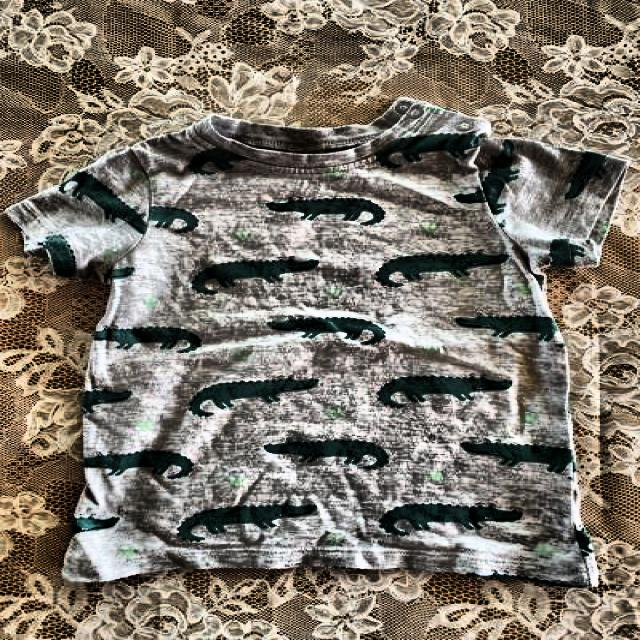clothes: (0, 96, 630, 590)
